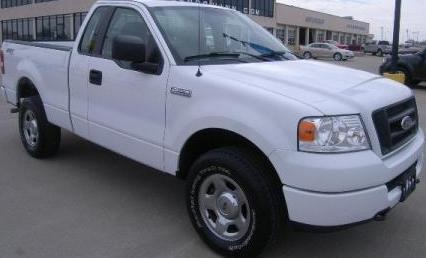front_view: (291, 96, 422, 220)
headlight: (294, 108, 375, 157)
side_glass: (78, 5, 171, 79)
